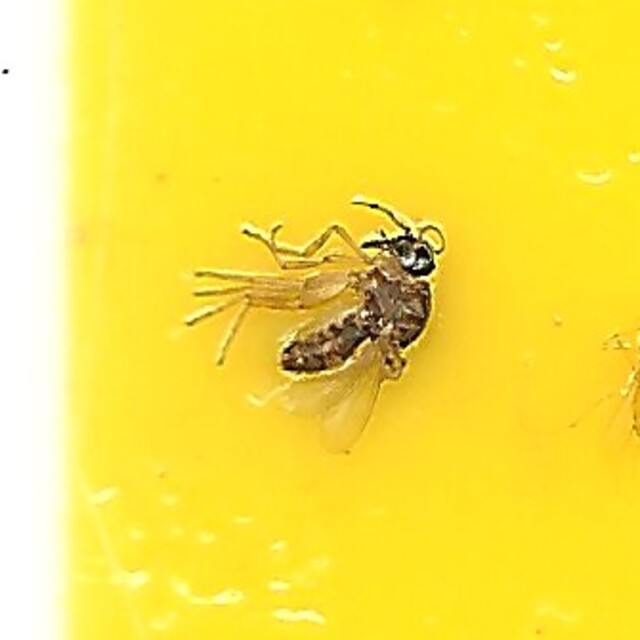Brachycera: (191, 211, 449, 429)
